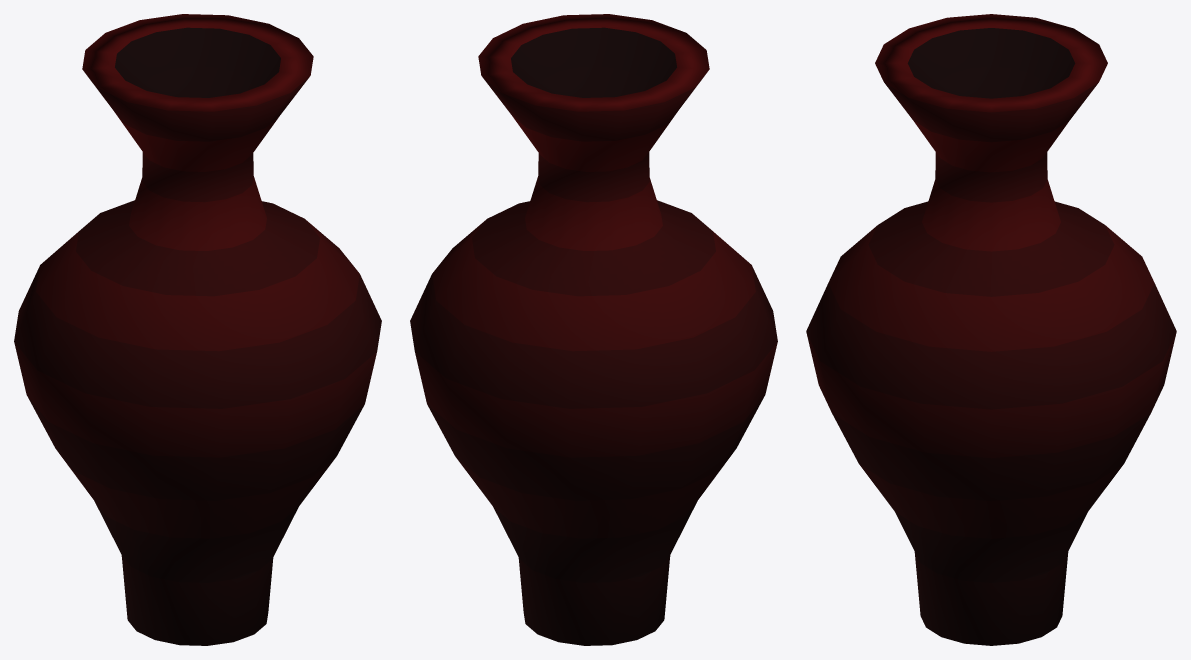
Rendered from Vase001.glb.
3 renders of one model, left to right at view 1: azimuth 30°, elevation 25°; view 2: azimuth 150°, elevation 25°; view 3: azimuth 270°, elevation 25°, orthographic.
Visible parts, largest first — view 1: Vase001; view 2: Vase001; view 3: Vase001.
Part boxes in pixels (<box>): Vase001: <box>14,14,381,645</box>; Vase001: <box>410,14,777,645</box>; Vase001: <box>806,14,1176,645</box>.
Bounding box in the file's own units: 2.24 × 3.69 × 2.24.
